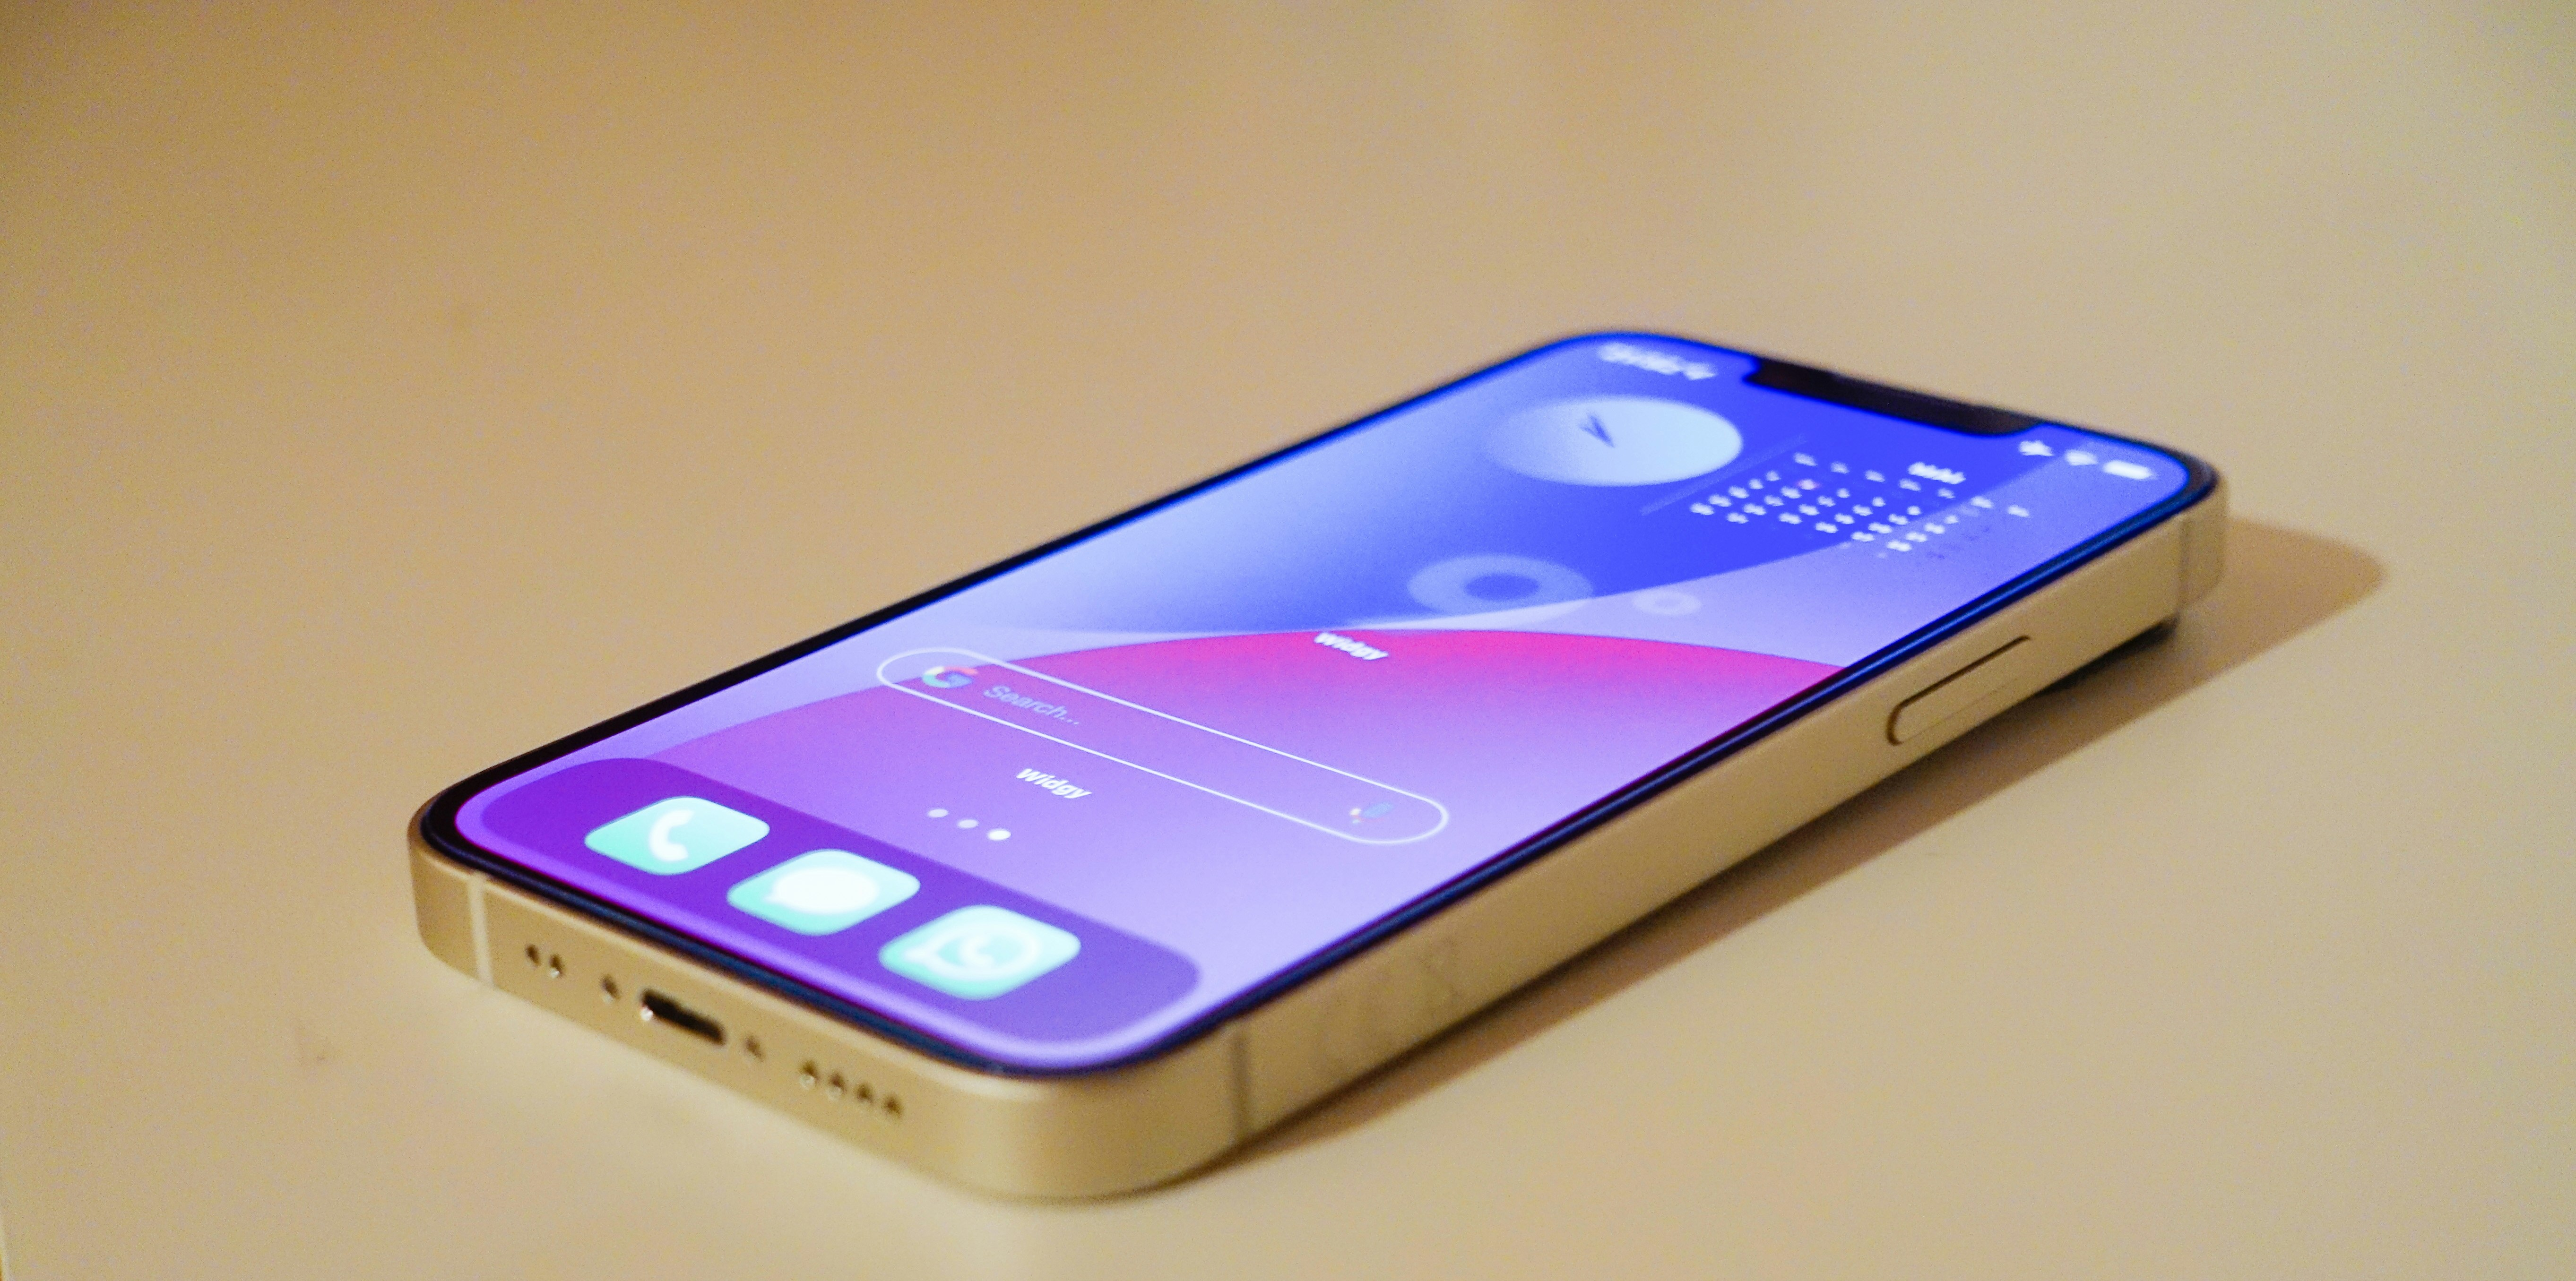p6: (335, 309, 2328, 1228)
